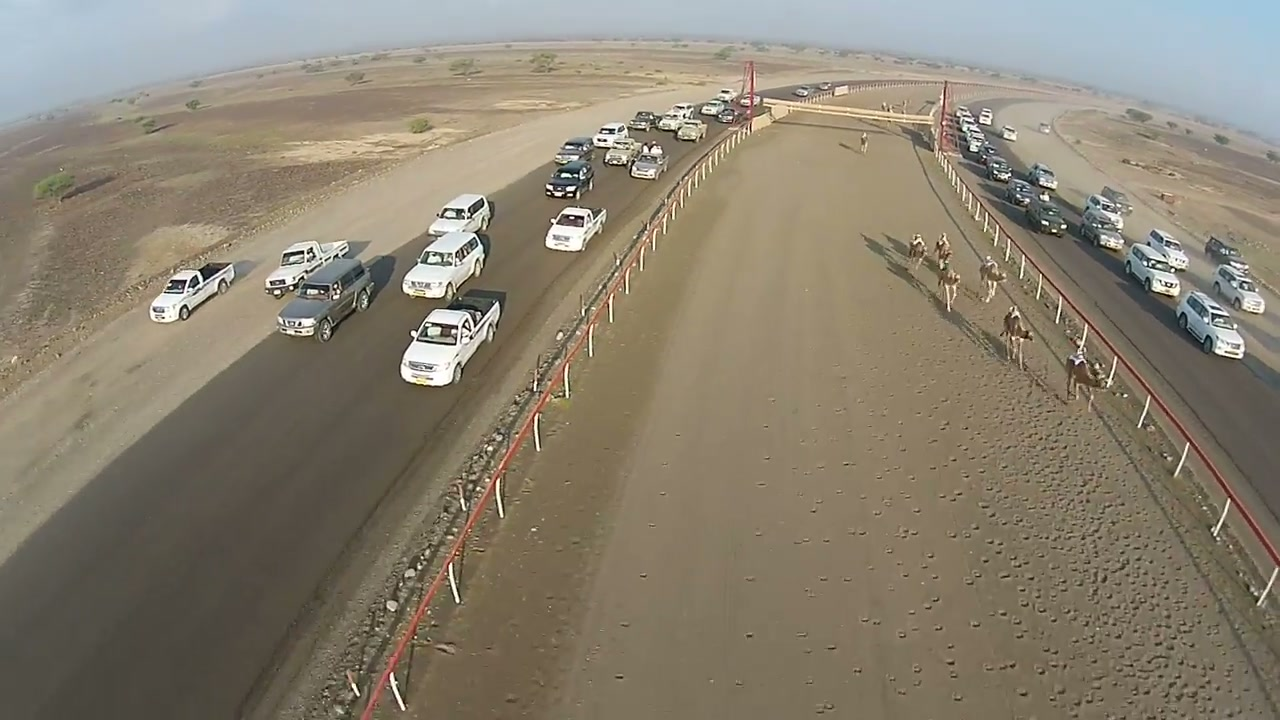animal_footprint: (940, 331, 1244, 719)
